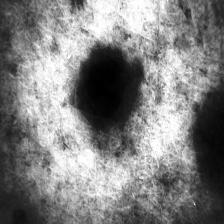Benign Marking or Mole: (77, 52, 137, 126)
